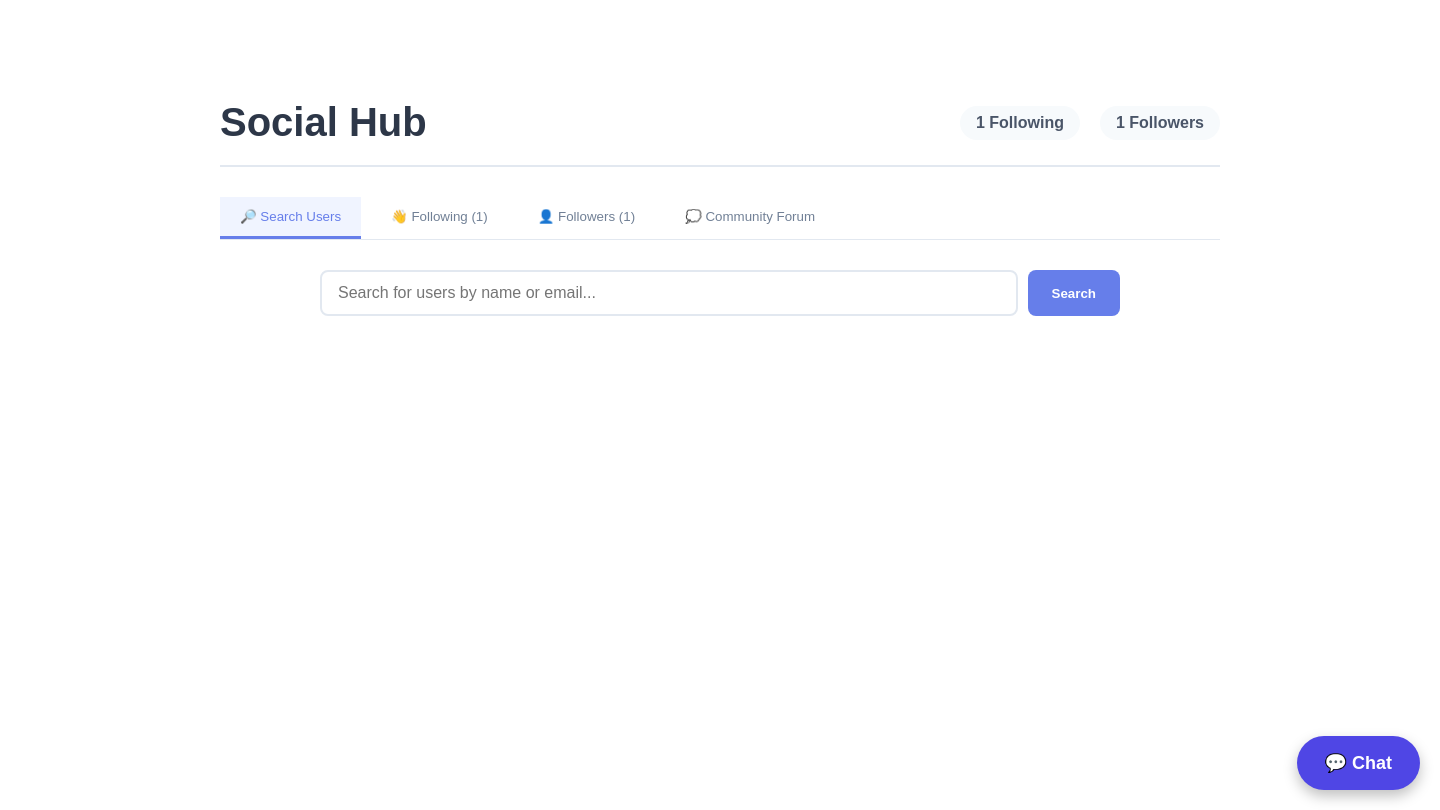
Test: SocialPage › allows search and shows results
This screenshot has width=1440, height=810.
Step 1. Type "user1" into the field with placeholder "Search for users by name or email..." → (669, 293), box x1=320 y1=270 x2=1018 y2=316
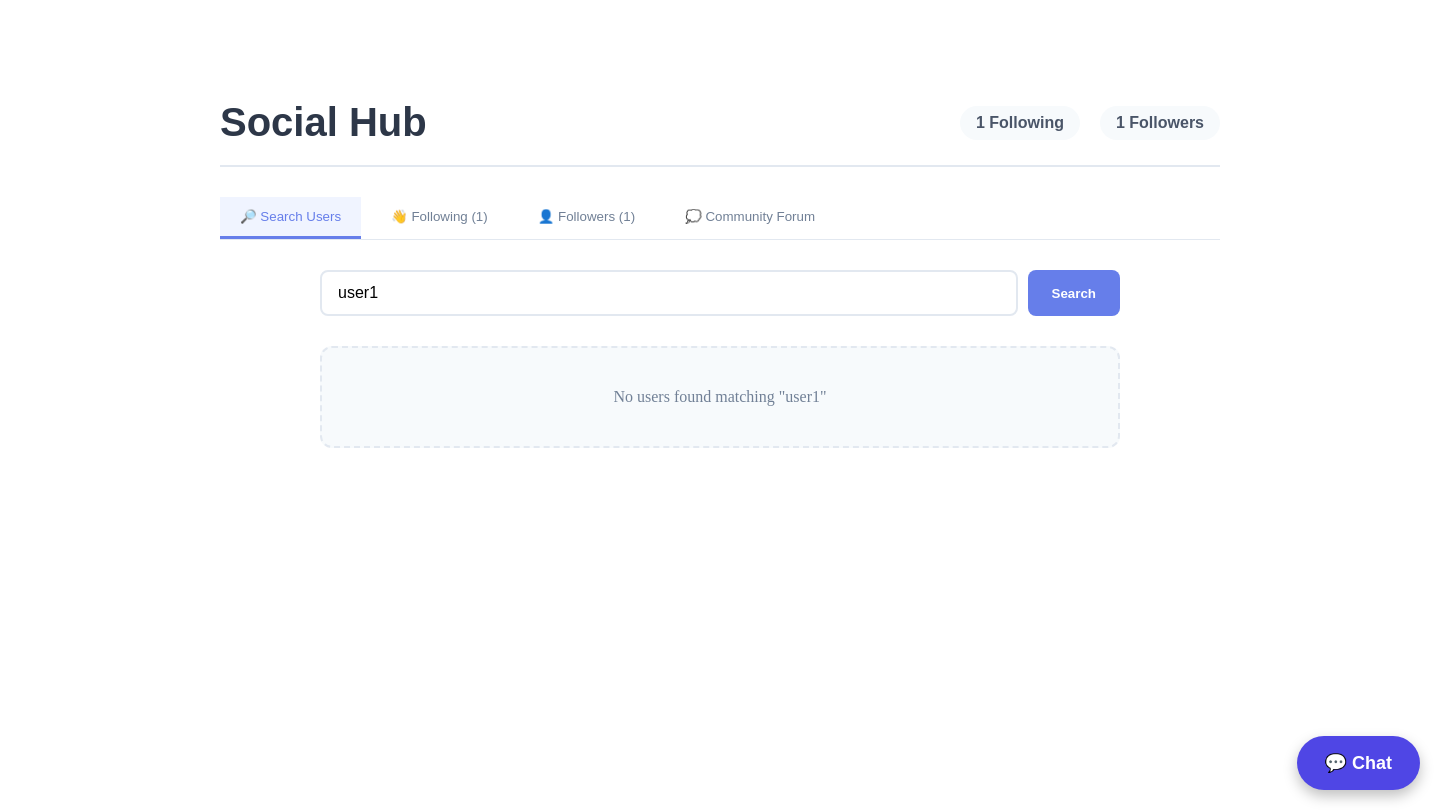
Step 2. Click the button "Search" → click(1074, 293), box x1=1028 y1=270 x2=1120 y2=316
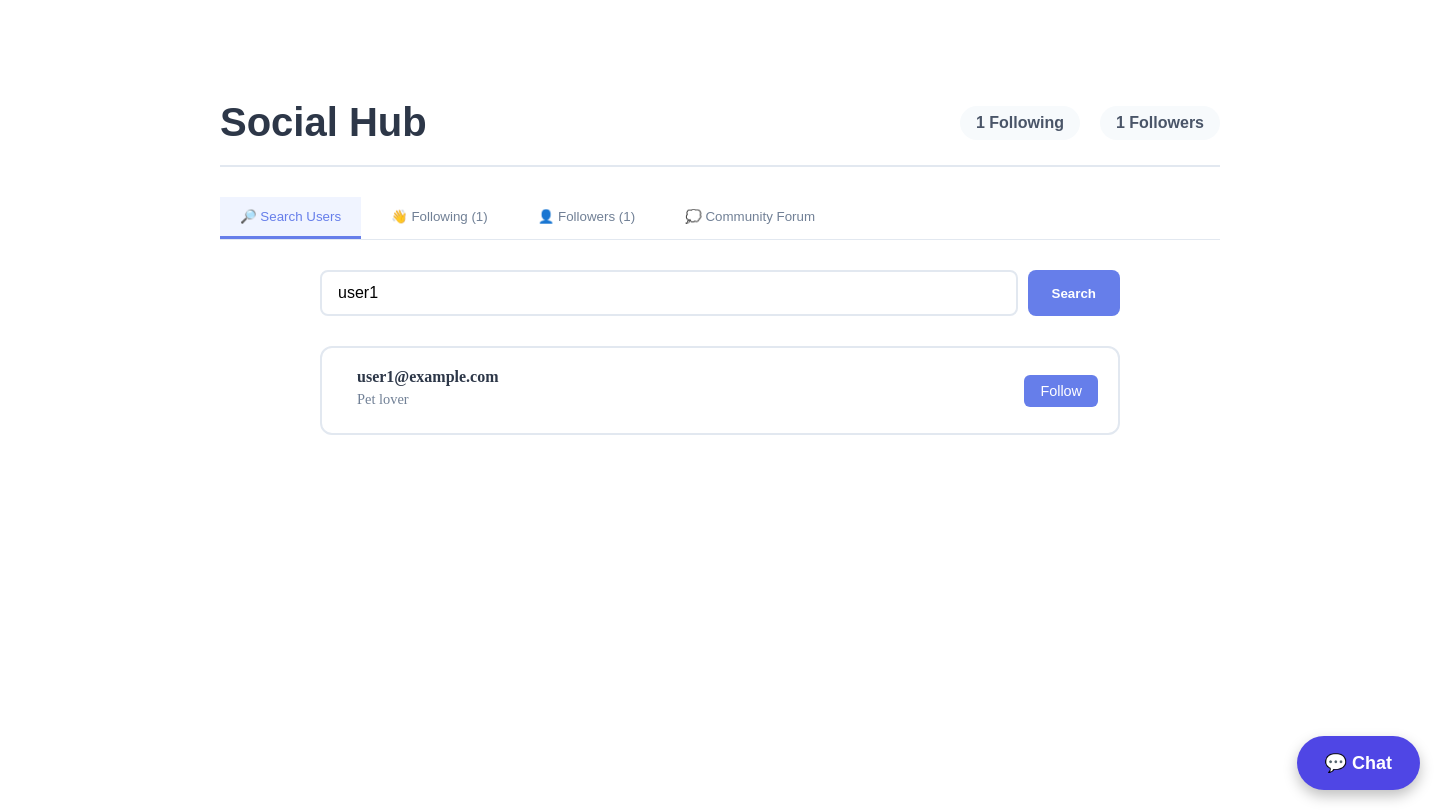
Check: the heading "user1@example.com" is shown, box x1=357 y1=368 x2=498 y2=385
